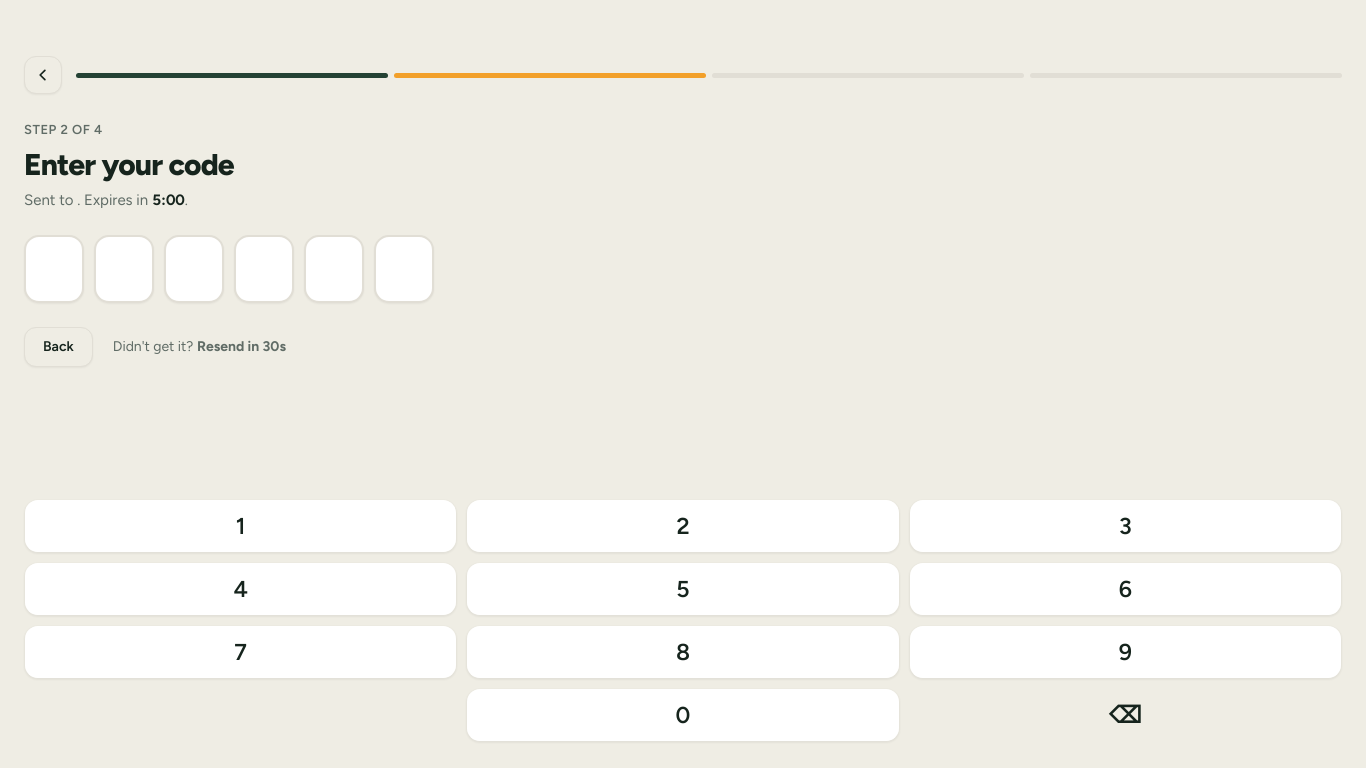
Scenario: OnboardingWizard › a mobile keypad tap on the otp step appends a digit to the shown code
This screenshot has width=1366, height=768.
Expected: the number of fields named "digit" is 6, [24,235,84,303]; [94,235,154,303]; [164,235,224,303]; [234,235,294,303]; [304,235,364,303]; [374,235,434,303]
Click the button "5" at x=683, y=589, box [466,562,900,616]
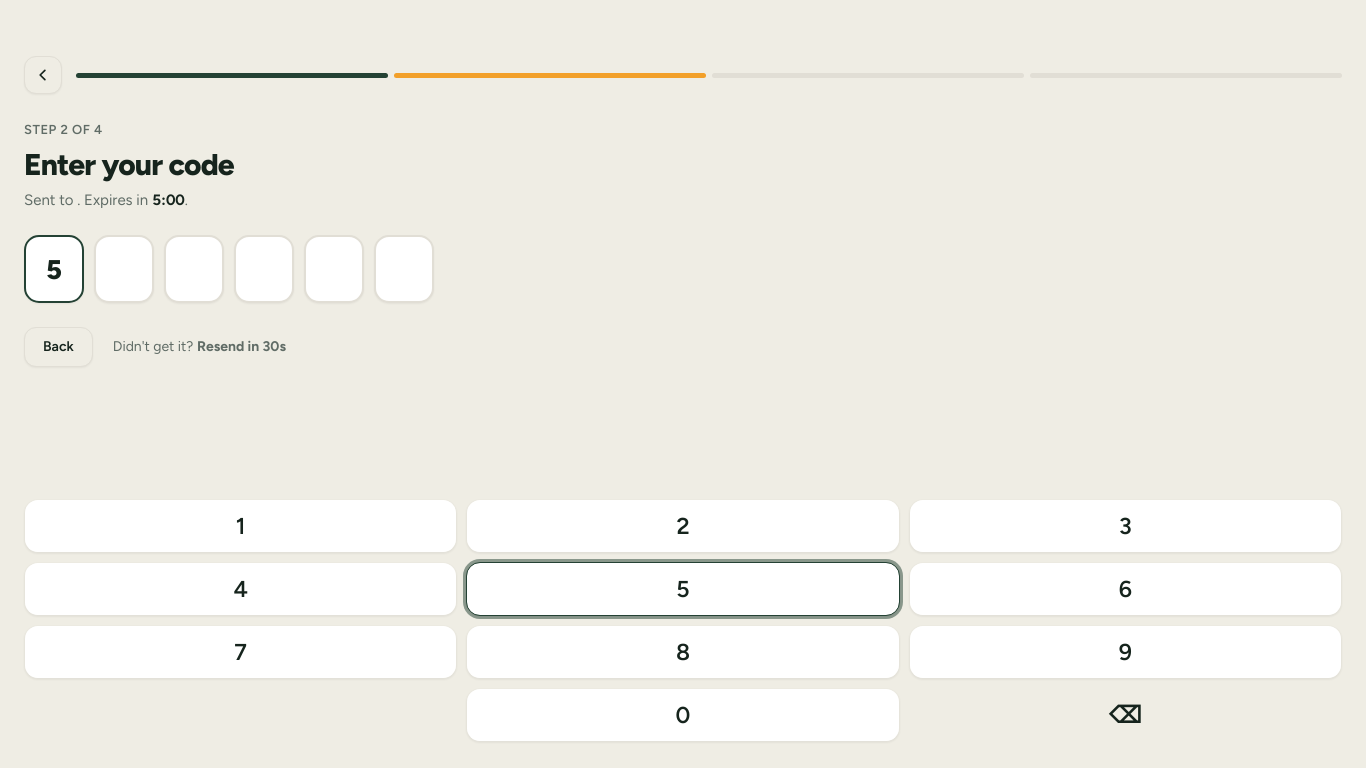
Expected: the field named "digit" holds "5", [24,235,84,303]
Click the button "2" at x=683, y=526, box [466,499,900,553]
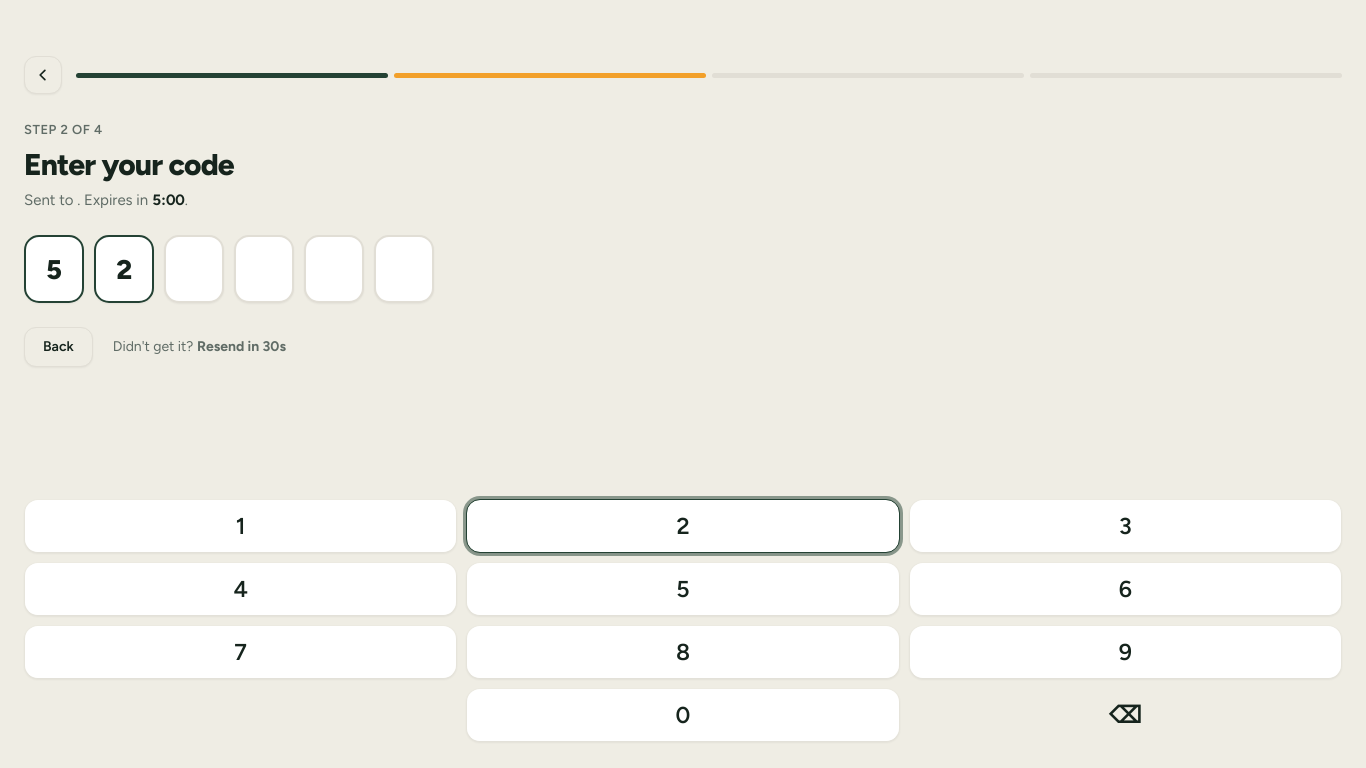
Expected: the field named "digit" holds "2", [94,235,154,303]
